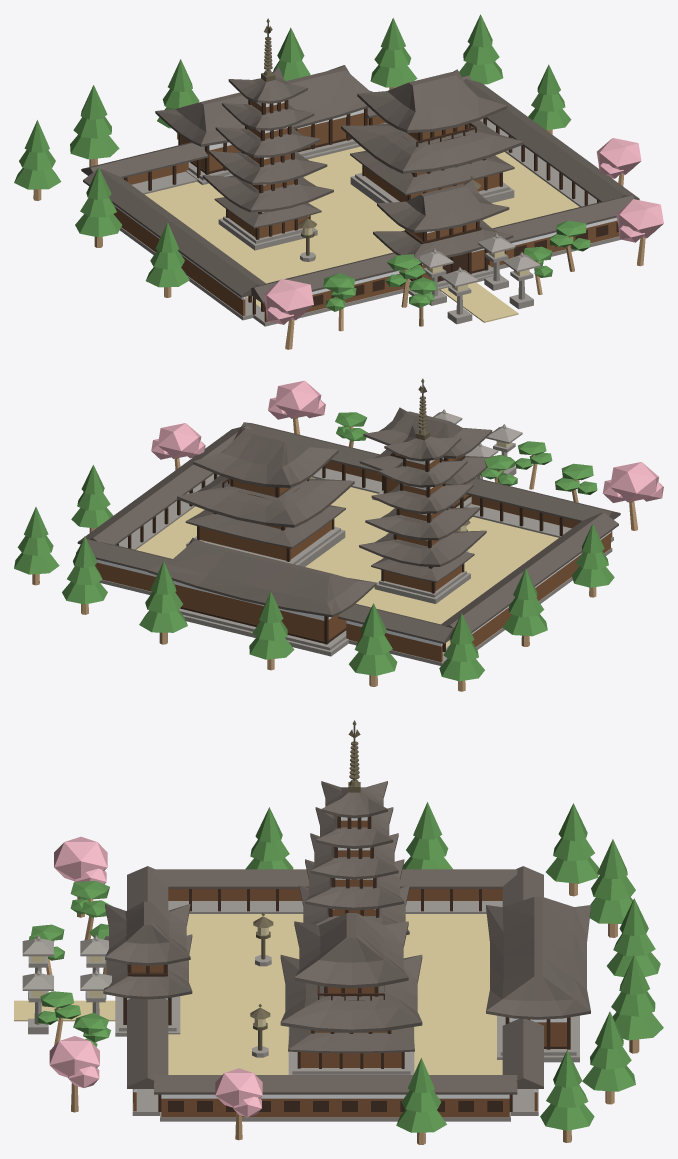
Rendered from horyu-ji.glb.
The picture shows the model from 3 angles, top to bottom: view 1: azimuth 30°, elevation 25°; view 2: azimuth 150°, elevation 25°; view 3: azimuth 270°, elevation 25°; orthographic projection. The views are drawn at different scales.
Visible parts, largest first — view 1: horyuji_tile, horyuji_foliage, horyuji_sand, horyuji_stone, horyuji_timber, horyuji_darkwood, horyuji_blossom, horyuji_wood, horyuji_snow, horyuji_bronze; view 2: horyuji_tile, horyuji_foliage, horyuji_sand, horyuji_timber, horyuji_stone, horyuji_blossom, horyuji_darkwood, horyuji_wood, horyuji_snow, horyuji_bronze; view 3: horyuji_tile, horyuji_sand, horyuji_foliage, horyuji_stone, horyuji_timber, horyuji_blossom, horyuji_darkwood, horyuji_snow, horyuji_wood, horyuji_bronze.
Part boxes in pixels (x1,y1,x2,y2): horyuji_tile: (81,65,639,303); horyuji_foliage: (14,14,590,311); horyuji_sand: (145,146,579,322); horyuji_stone: (120,119,620,326); horyuji_timber: (113,101,619,322); horyuji_darkwood: (124,99,618,314); horyuji_blossom: (263,138,663,324); horyuji_wood: (33,84,645,349); horyuji_snow: (114,101,617,305); horyuji_bronze: (261,18,481,255); horyuji_tile: (76,407,620,643); horyuji_foliage: (14,412,614,681); horyuji_sand: (136,477,558,647); horyuji_timber: (95,458,612,662); horyuji_stone: (99,409,613,665); horyuji_blossom: (151,380,663,502); horyuji_darkwood: (116,452,579,651); horyuji_wood: (32,417,637,691); horyuji_snow: (96,457,611,646); horyuji_bronze: (415,378,470,531); horyuji_tile: (103,781,590,1094); horyuji_sand: (14,914,502,1074); horyuji_foliage: (29,802,663,1132); horyuji_stone: (22,901,579,1121); horyuji_timber: (131,820,566,1117); horyuji_blossom: (49,836,262,1117); horyuji_darkwood: (123,816,570,1111); horyuji_snow: (127,817,566,1098); horyuji_wood: (46,883,639,1144); horyuji_bronze: (250,720,360,1050).
Size of the model in its own units: 21.2 by 9.11 by 21.38.
